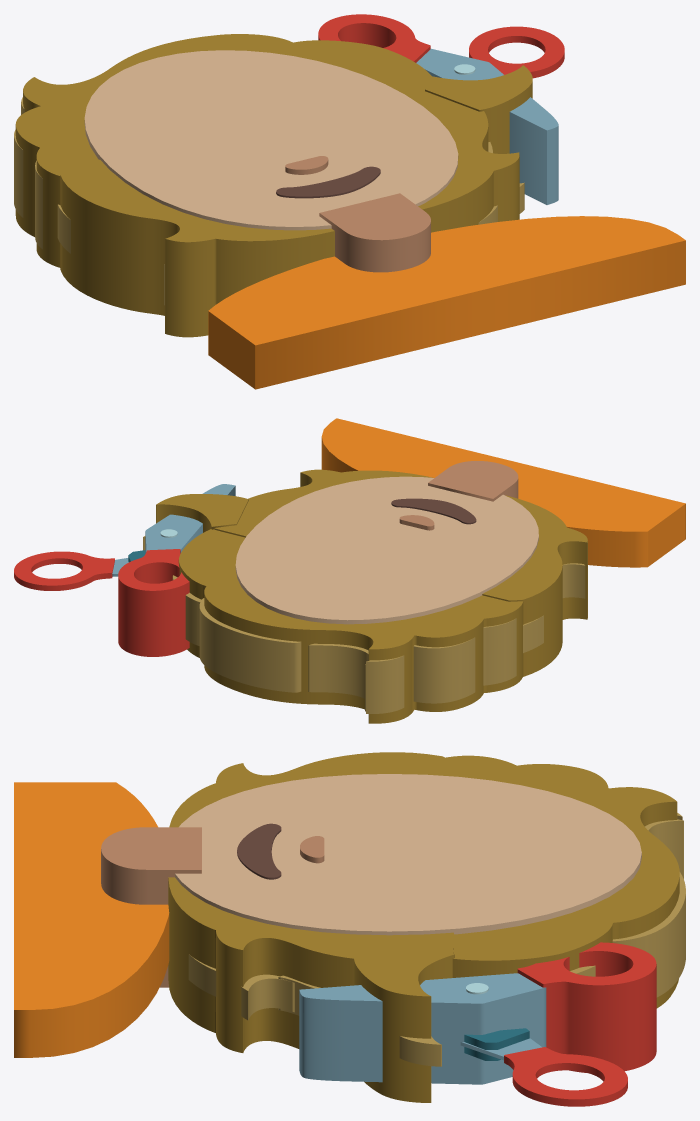
The model's file is emoji_u1f487_1f3fc.glb.
3 views of the same model, one above another, from view 1: azimuth 30°, elevation 25°; view 2: azimuth 150°, elevation 25°; view 3: azimuth 270°, elevation 25° (orthographic). The views are drawn at different scales.
Parts seen in each view (by area): view 1: emoji_u1f487_1f3fc; view 2: emoji_u1f487_1f3fc; view 3: emoji_u1f487_1f3fc.
Boxes of the visible parts, box(x1,y1,x2,y2) form: emoji_u1f487_1f3fc: box(14, 14, 685, 389); emoji_u1f487_1f3fc: box(14, 418, 685, 723); emoji_u1f487_1f3fc: box(14, 752, 685, 1106).
Size of the model in its own units: 0.0349 by 0.0066 by 0.0331.
